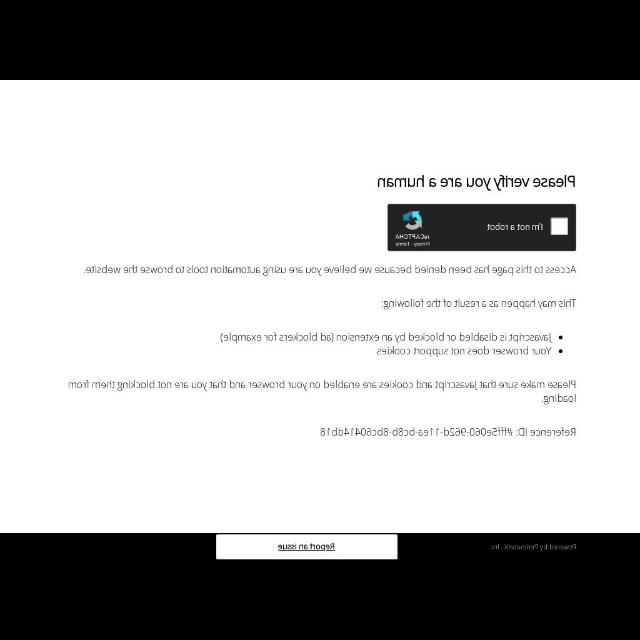checkbox: (552, 218, 568, 235)
image: (388, 204, 436, 252)
text: (66, 379, 576, 406), (217, 332, 565, 358), (80, 262, 578, 276), (376, 174, 578, 192), (318, 426, 576, 438), (379, 298, 577, 312), (276, 539, 336, 553), (487, 544, 578, 552), (485, 220, 545, 232)
textbutton: (218, 534, 396, 560)
